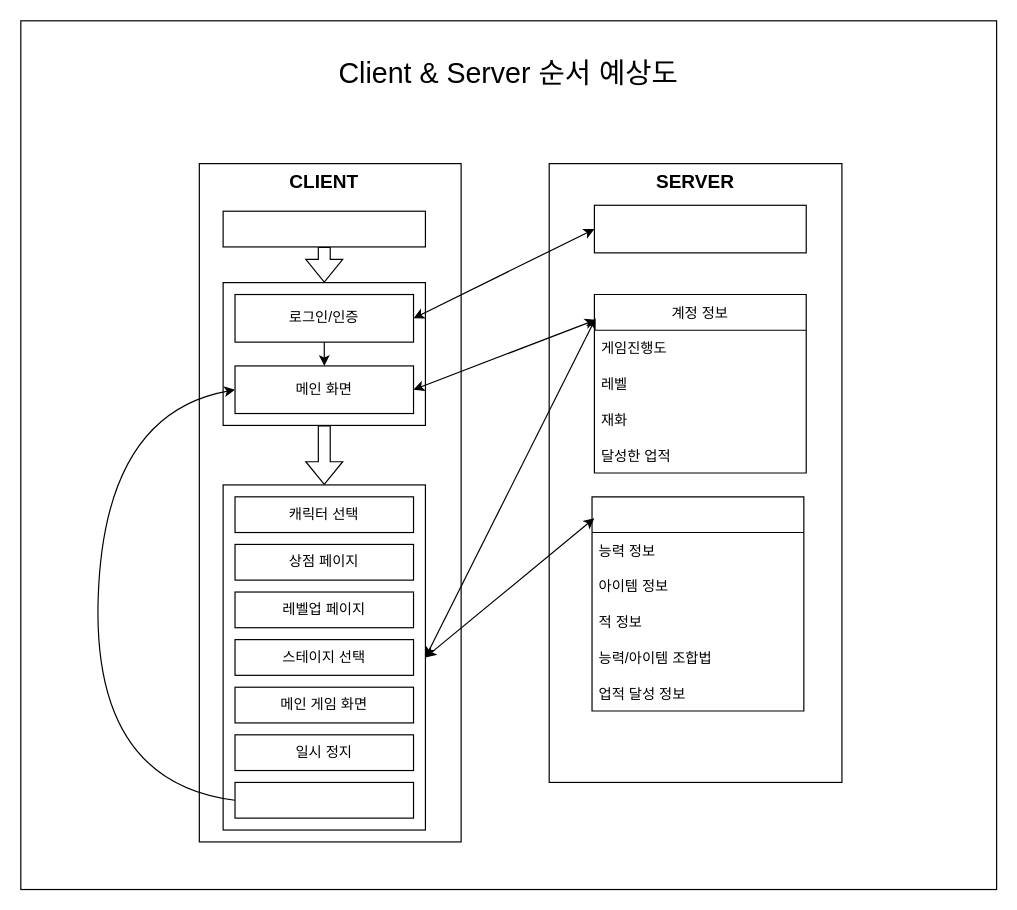
Image size: 1017x910. Some labels were removed from this diagram. The shapes that lost their labels are listed below. From the top down, each one's box as (x1, y1, x2, y2) in pixels, then its label:
(222, 210, 425, 247): 클라이언트 실행
(593, 204, 806, 253): 로그인 정보(playstore 연동)
(591, 496, 804, 711): 게임 정보(업데이트)
(234, 781, 414, 818): 게임 오버 화면
